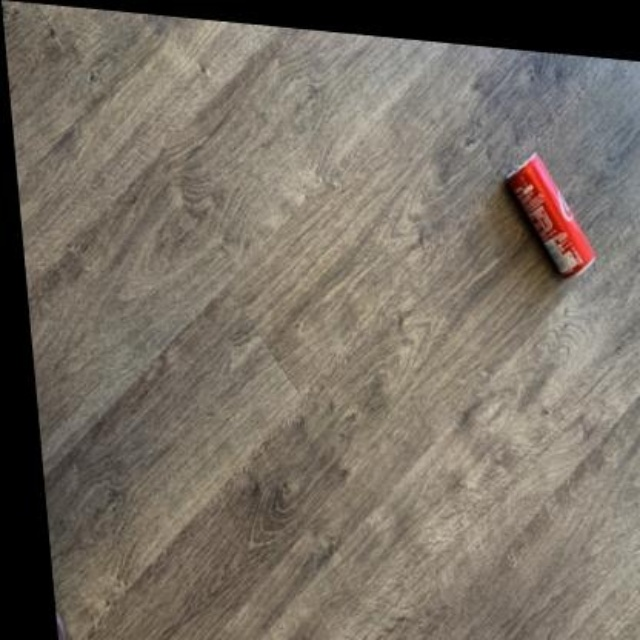trash: (506, 154, 594, 275)
